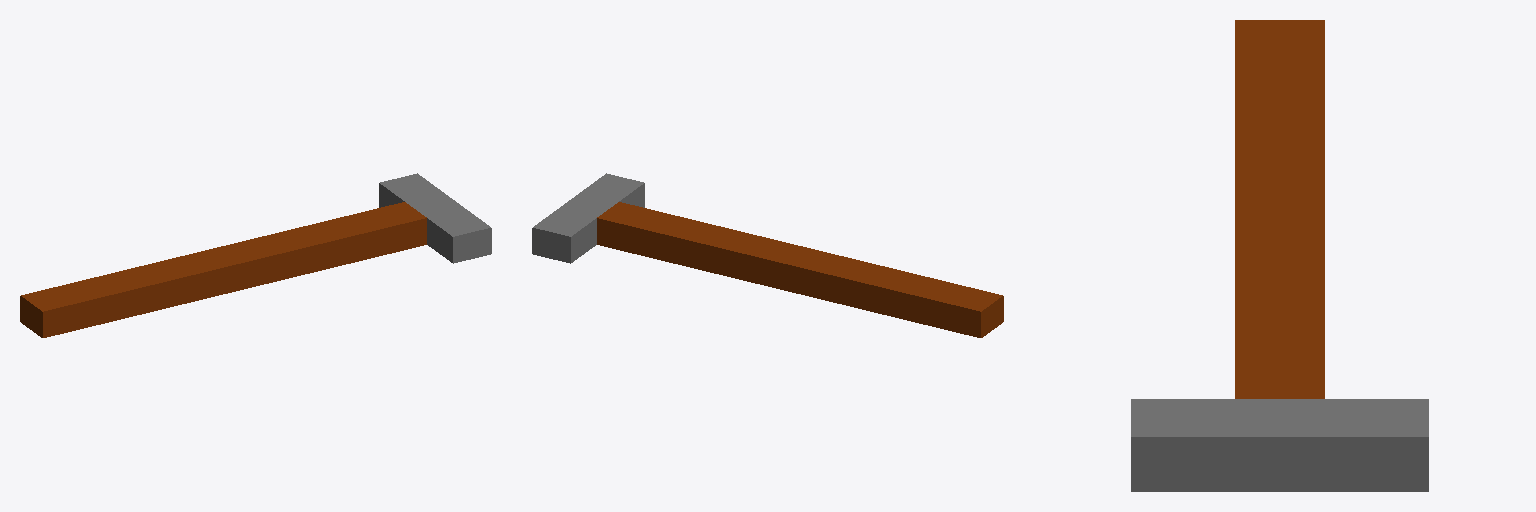
robot.urdf — cuboidal_hammer:
<?xml version="1.0"?>
<robot name="cuboidal_hammer">

  <link name="hammer">
    <!-- Handle -->
    <visual>
      <origin xyz="0 0 0" rpy="0 0 0"/>
      <geometry>
        <box size="0.525 0.0525 0.035"/>
      </geometry>
      <material name="brown">
        <color rgba="0.55 0.27 0.07 1.0"/>
      </material>
    </visual>
    <collision>
      <origin xyz="0 0 0" rpy="0 0 0"/>
      <geometry>
        <box size="0.525 0.0525 0.035"/>
      </geometry>
    </collision>

    <!-- Head -->
    <visual>
      <origin xyz="0.28875 0 0" rpy="0 0 0"/>
      <geometry>
        <box size="0.0525 0.17500000000000002 0.035"/>
      </geometry>
      <material name="gray">
        <color rgba="0.5 0.5 0.5 1.0"/>
      </material>
    </visual>
    <collision>
      <origin xyz="0.28875 0 0" rpy="0 0 0"/>
      <geometry>
        <box size="0.0525 0.17500000000000002 0.035"/>
      </geometry>
    </collision>

    <inertial>
      <mass value="0.30000000000000004"/>
      <inertia ixx="0.0001" iyy="0.0001" izz="0.0001" ixy="0" ixz="0" iyz="0"/>
    </inertial>
  </link>

</robot>

--- Facts derived from the render (not from the file) ---
Views: 3 orthographic renders of the robot side by side, from view 1: azimuth 30°, elevation 25°; view 2: azimuth 150°, elevation 25°; view 3: azimuth 270°, elevation 25°.
Robot: cuboidal_hammer — 1 links, 0 joints (none); root link hammer; default pose: all joints at 0.
Visible links, largest first — view 1: hammer; view 2: hammer; view 3: hammer.
Link boxes in pixels (box(x1,y1,x2,y2)): hammer: box(20, 173, 491, 337); hammer: box(532, 173, 1003, 337); hammer: box(1131, 20, 1428, 491).
Bounding box of the posed robot: 0.5775 × 0.175 × 0.035 m (x, y, z).
Geometry: primitives only (box / cylinder / sphere), no mesh files.
